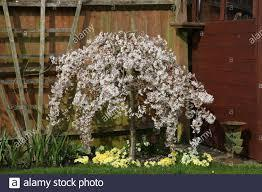tree: (46, 27, 218, 164)
